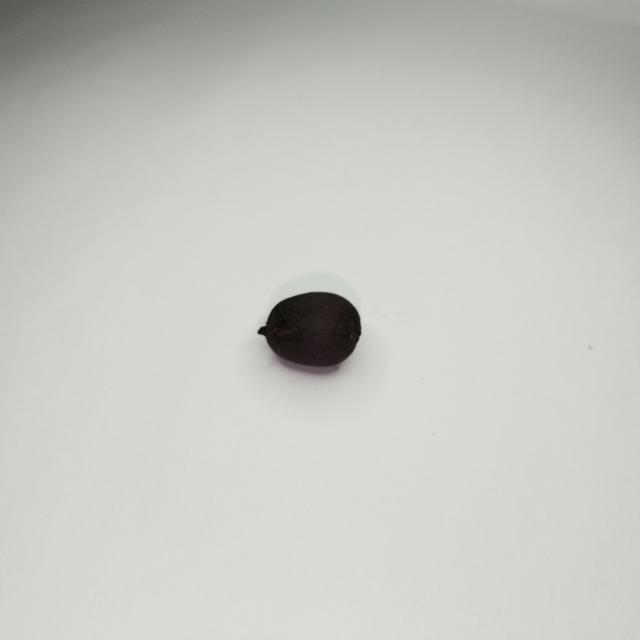Danado: (259, 292, 360, 368)
